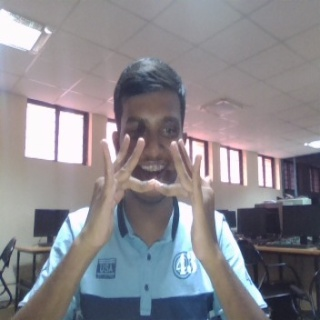Internet: (76, 133, 222, 264)
